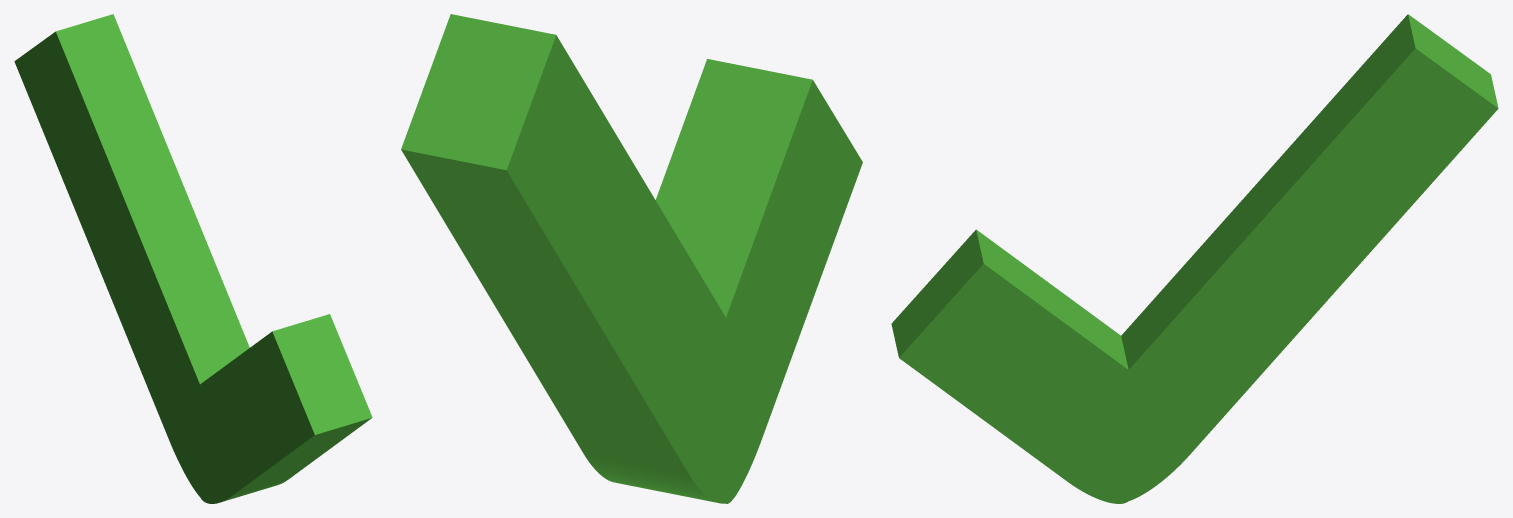
File: check.fbx
The picture shows the model from 3 angles, left to right: view 1: azimuth 30°, elevation 25°; view 2: azimuth 150°, elevation 25°; view 3: azimuth 270°, elevation 25°; orthographic projection. The views are drawn at different scales.
Parts seen in each view (by area): view 1: Cube.001; view 2: Cube.001; view 3: Cube.001.
Part boxes in pixels (box(x1,y1,x2,y2)): Cube.001: box(14, 14, 372, 503); Cube.001: box(401, 14, 862, 503); Cube.001: box(891, 14, 1498, 503).
Size of the model in its own units: 28.47 by 101 by 125.
